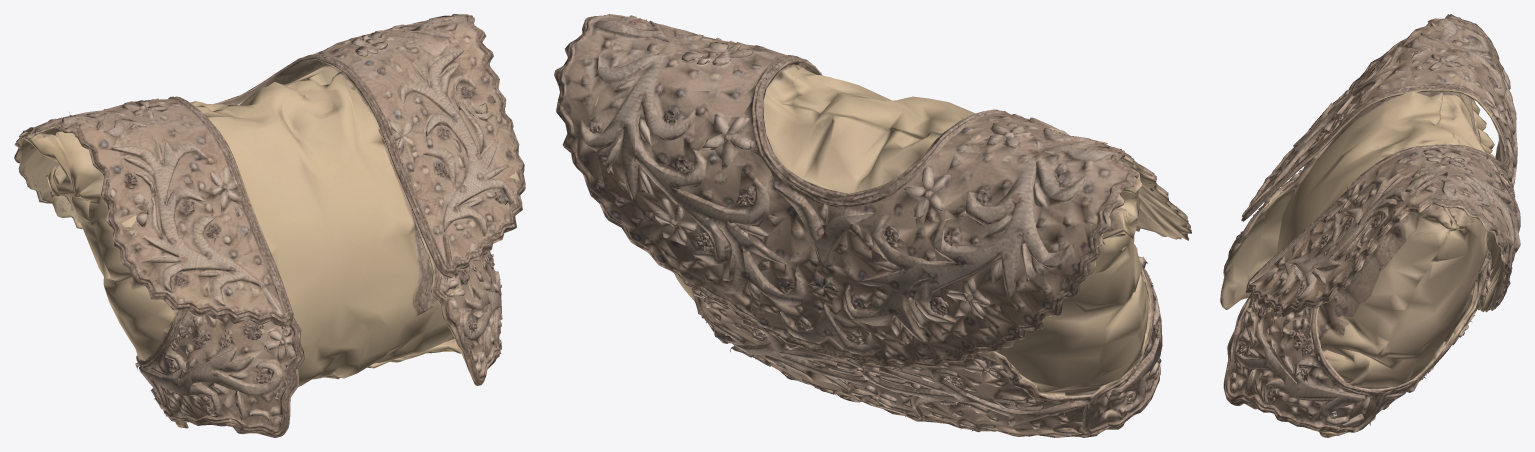
The model's file is jelek-srebro.glb.
The picture shows the model from 3 angles, left to right: view 1: azimuth 30°, elevation 25°; view 2: azimuth 150°, elevation 25°; view 3: azimuth 270°, elevation 25°; orthographic projection. The views are drawn at different scales.
Bounding box in the file's own units: 1.89 × 1.19 × 1.17.
1 material, 1 textured.
